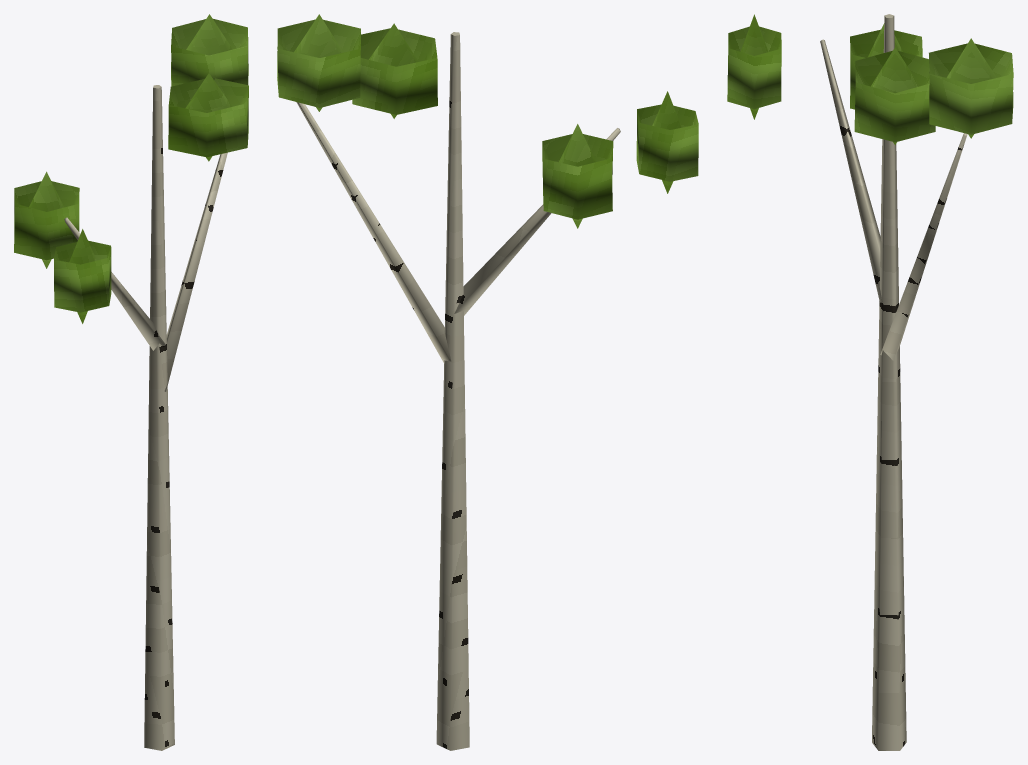
Rendered from birch01-lod2.glb.
3 views of the same model, side by side, from view 1: azimuth 30°, elevation 25°; view 2: azimuth 150°, elevation 25°; view 3: azimuth 270°, elevation 25° (orthographic). The views are drawn at different scales.
Parts seen in each view (by area): view 1: TZ_birch_Batch_01_LOD2, TZ_birch_Batch_00_LOD2; view 2: TZ_birch_Batch_01_LOD2, TZ_birch_Batch_00_LOD2; view 3: TZ_birch_Batch_00_LOD2, TZ_birch_Batch_01_LOD2.
Boxes of the visible parts, left/top/right/bottom form: TZ_birch_Batch_01_LOD2: left=14, top=14, right=248, bottom=323; TZ_birch_Batch_00_LOD2: left=64, top=85, right=227, bottom=750; TZ_birch_Batch_01_LOD2: left=277, top=14, right=698, bottom=228; TZ_birch_Batch_00_LOD2: left=296, top=32, right=620, bottom=750; TZ_birch_Batch_00_LOD2: left=820, top=14, right=967, bottom=750; TZ_birch_Batch_01_LOD2: left=727, top=14, right=1013, bottom=145.
Bounding box in the file's own units: 4.13 × 9.2 × 3.16.
Materials: 2 (2 with a texture image).
